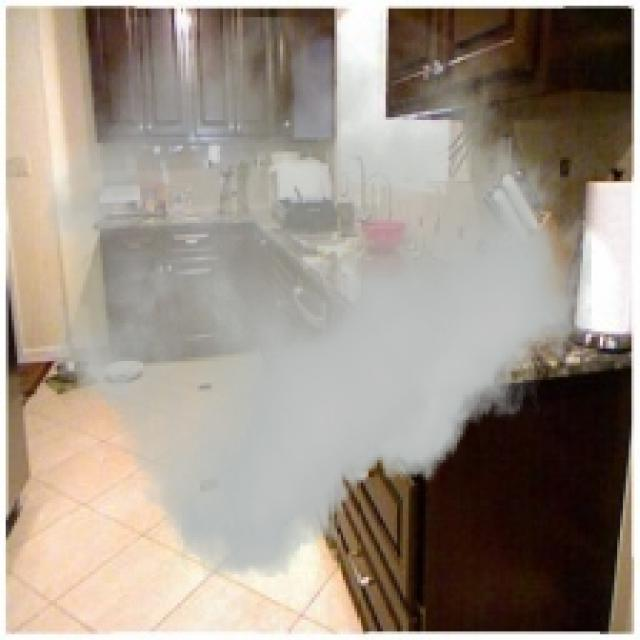smoke: (43, 17, 591, 577)
